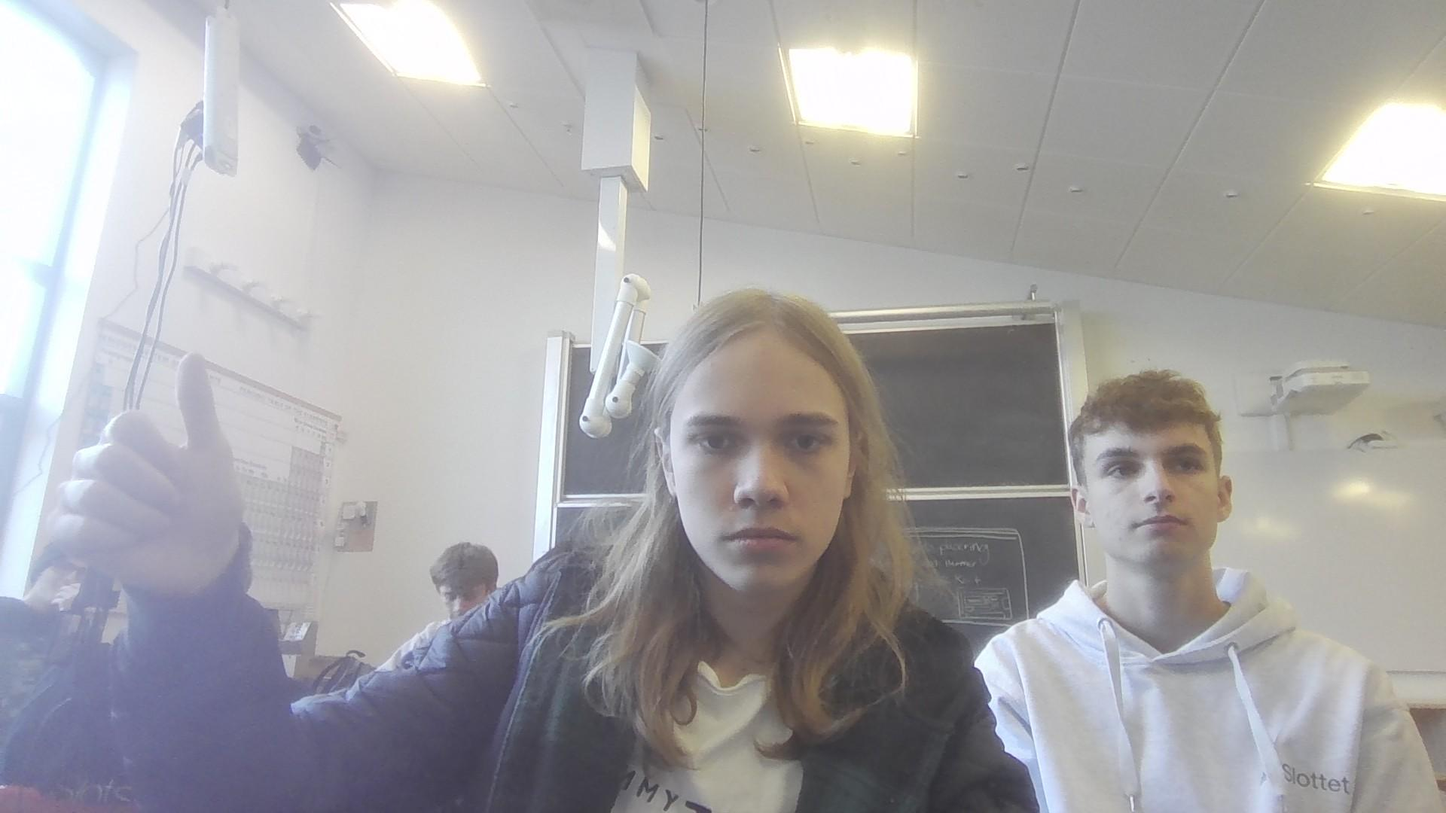thumbs up: (64, 351, 249, 602)
